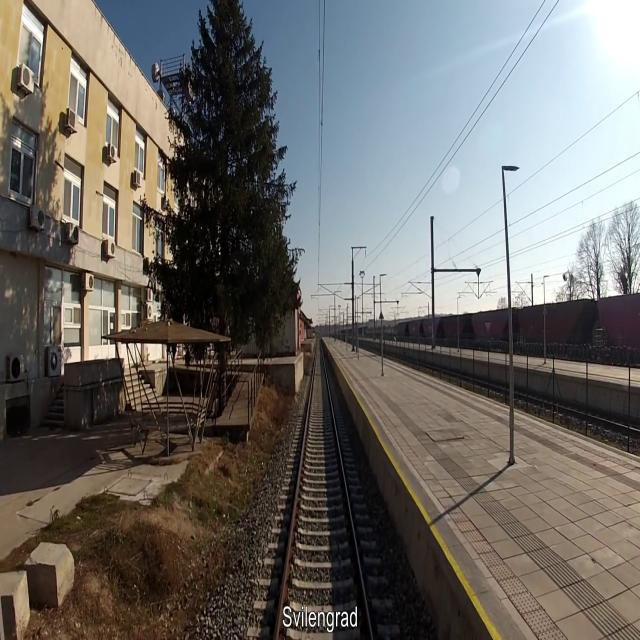rail-track: (284, 341, 362, 597), (365, 615, 369, 639)
